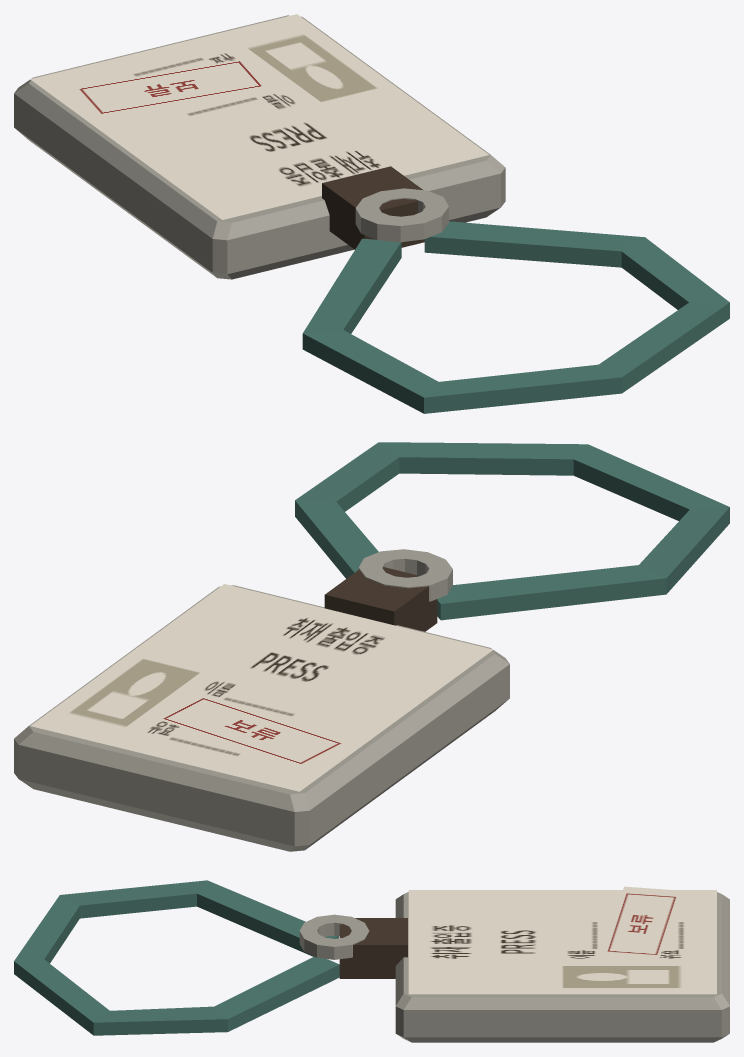
Rendered from W10_Press_Access_Pass.fbx.
The picture shows the model from 3 angles, top to bottom: view 1: azimuth 30°, elevation 25°; view 2: azimuth 150°, elevation 25°; view 3: azimuth 270°, elevation 25°; orthographic projection. The views are drawn at different scales.
Visible parts, largest first — view 1: Press_Pass, Lanyard, Badge_Case, Clip, Hold_Stamp; view 2: Press_Pass, Badge_Case, Lanyard, Clip, Hold_Stamp; view 3: Press_Pass, Lanyard, Badge_Case, Clip, Hold_Stamp.
Boxes of the visible parts, x1,y1,x2,y2 form: Press_Pass: (30, 14, 488, 219); Lanyard: (302, 221, 729, 413); Badge_Case: (14, 15, 505, 279); Clip: (322, 166, 448, 249); Hold_Stamp: (60, 56, 281, 118); Press_Pass: (30, 584, 493, 791); Badge_Case: (14, 585, 509, 851); Lanyard: (295, 442, 729, 620); Clip: (324, 549, 452, 631); Hold_Stamp: (145, 691, 359, 770); Press_Pass: (408, 890, 716, 994); Lanyard: (14, 880, 339, 1035); Badge_Case: (395, 892, 729, 1042); Clip: (299, 914, 407, 978); Hold_Stamp: (601, 886, 681, 961).
Size of the model in its own units: 0.23 by 0.045 by 0.5.
4 materials, 1 textured.
